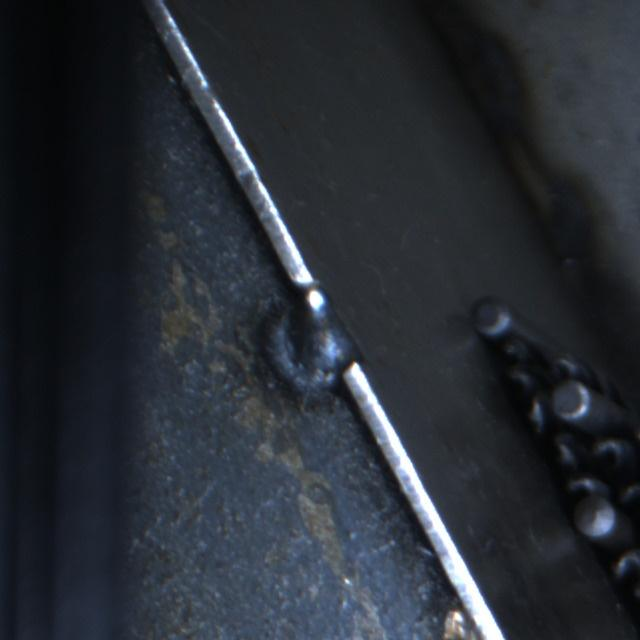tool: (574, 498, 618, 540), (552, 378, 592, 419), (473, 295, 512, 335)
tool_b: (493, 357, 544, 404), (584, 430, 635, 473), (606, 545, 640, 601), (541, 427, 585, 470), (516, 394, 552, 436), (552, 348, 588, 386), (562, 470, 598, 506), (495, 322, 530, 358), (616, 475, 640, 508)
